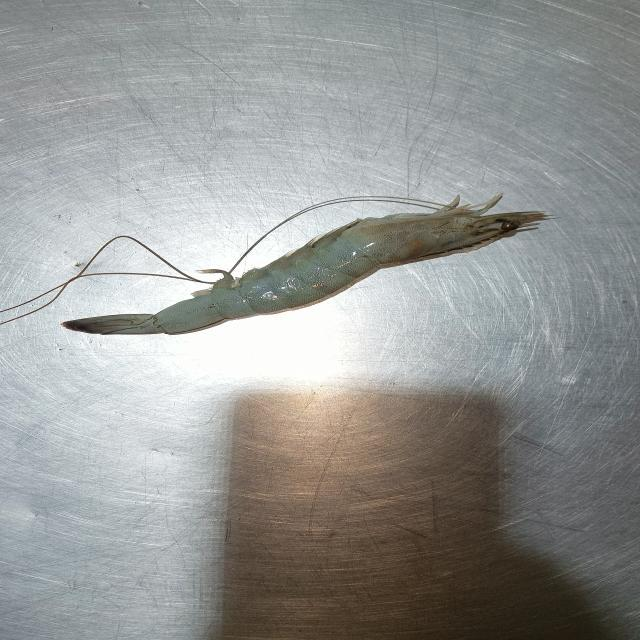shrimp: (136, 201, 544, 330)
